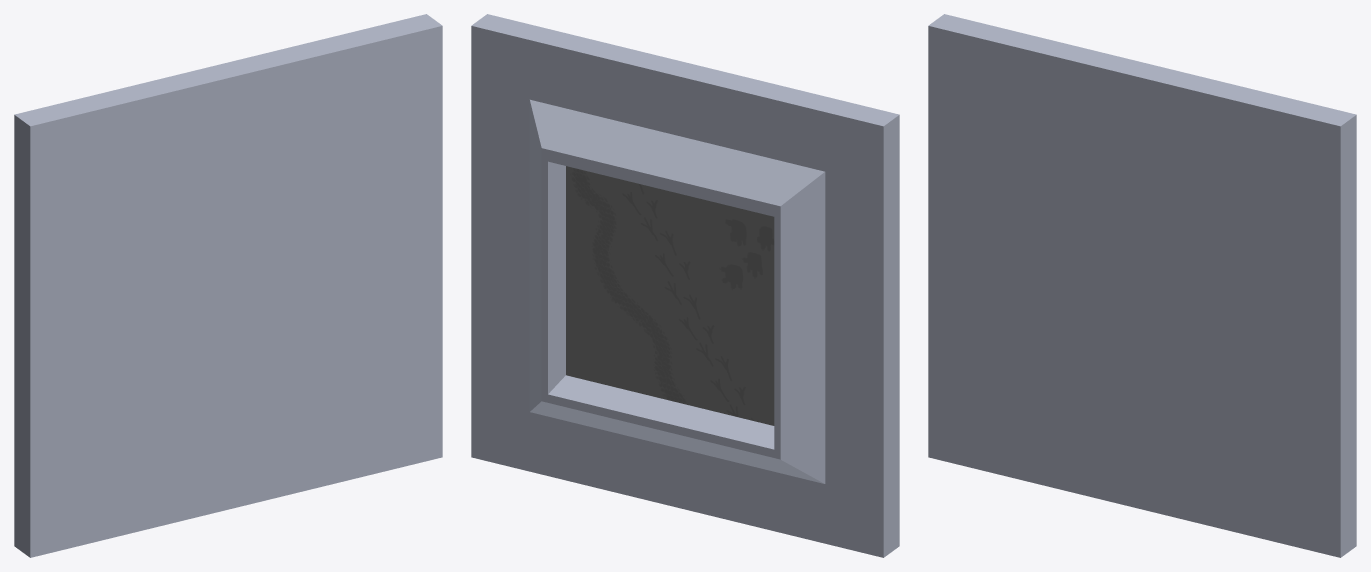
The model's file is Trackway_Art.fbx.
3 views of the same model, side by side, from view 1: azimuth 30°, elevation 25°; view 2: azimuth 150°, elevation 25°; view 3: azimuth 330°, elevation 25° (orthographic).
Visible parts, largest first — view 1: Trackway Painting; view 2: Trackway Painting, Image; view 3: Trackway Painting.
Part boxes in pixels (x1,y1,x2,y2): Trackway Painting: (14,14,442,557); Trackway Painting: (471,14,899,557); Image: (566,166,774,425); Trackway Painting: (928,14,1356,557).
Size of the model in its own units: 963 by 963 by 131.
Materials: 2 (1 with a texture image).
